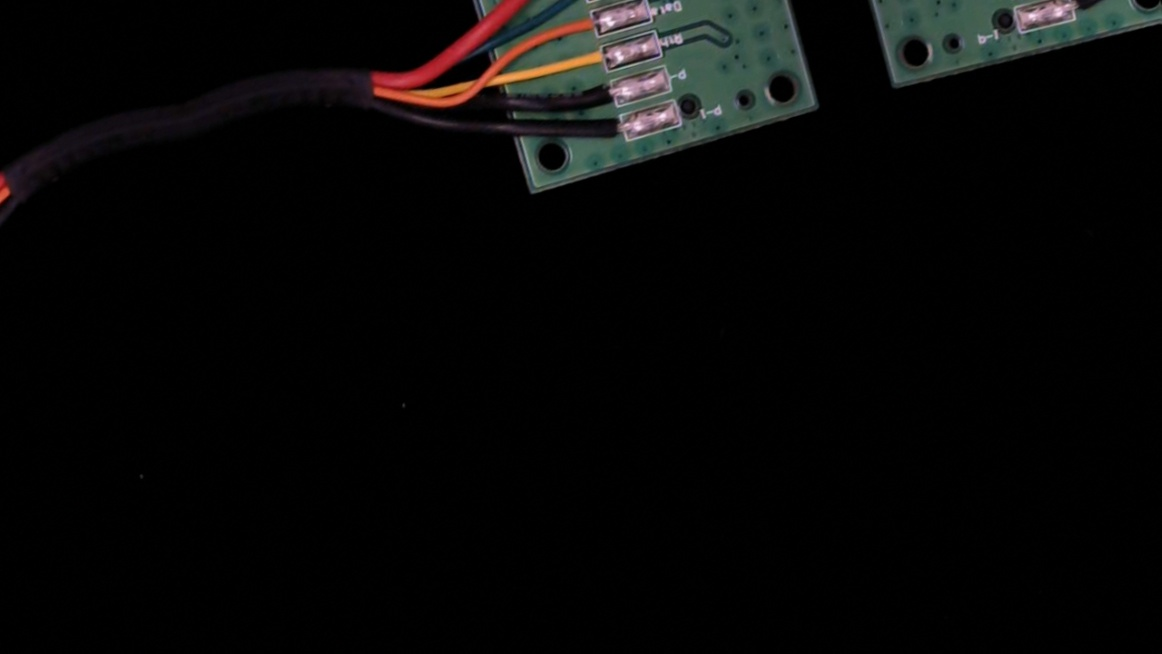Black: (568, 77, 631, 118)
Black1: (574, 112, 641, 156), (1059, 0, 1125, 25)
Green: (546, 0, 604, 16)
Orange: (554, 7, 612, 49)
Yellow: (560, 42, 625, 87)
